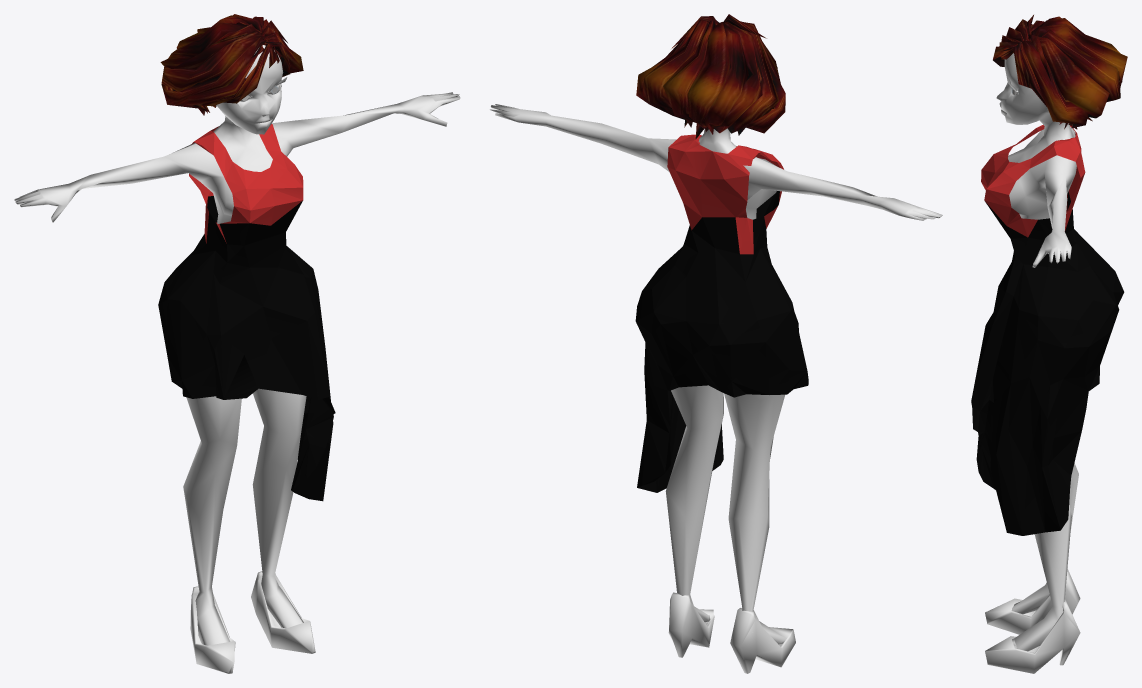
Rendered from woman_low_poly test.fbx.
3 renders of one model, left to right at view 1: azimuth 30°, elevation 25°; view 2: azimuth 150°, elevation 25°; view 3: azimuth 270°, elevation 25°, orthographic.
Visible parts, largest first — view 1: Dress.001, CC_Base_Body.003, Hair.001, Plane; view 2: Dress.001, CC_Base_Body.003, Hair.001, Plane; view 3: Dress.001, CC_Base_Body.003, Hair.001, Plane.
Boxes of the visible parts, x1,y1,x2,y2 form: Dress.001: [158, 124, 335, 501]; CC_Base_Body.003: [14, 45, 460, 645]; Hair.001: [160, 14, 303, 115]; Plane: [190, 571, 315, 673]; Dress.001: [635, 134, 808, 492]; CC_Base_Body.003: [490, 104, 942, 644]; Hair.001: [636, 14, 785, 139]; Plane: [668, 592, 795, 673]; Dress.001: [971, 125, 1124, 535]; CC_Base_Body.003: [996, 53, 1078, 651]; Hair.001: [993, 15, 1127, 129]; Plane: [985, 568, 1080, 673].
Size of the model in its own units: 11818 by 15995 by 3608.
